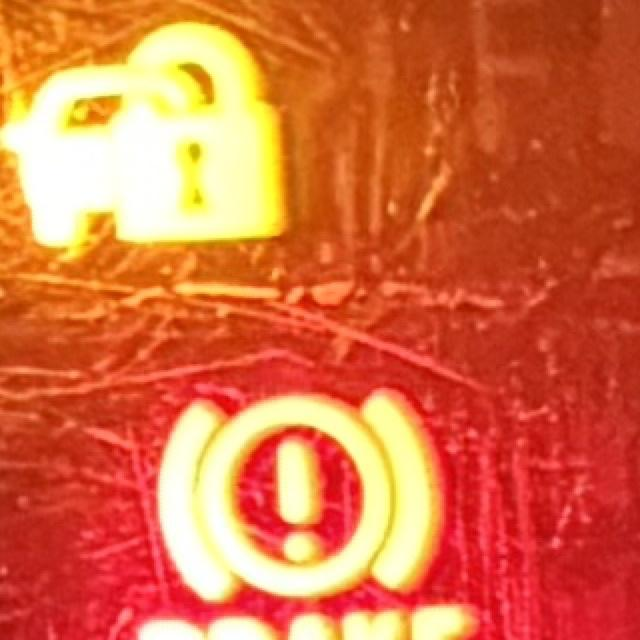Break System Issue: (131, 383, 480, 640)
Car SecurityWarning: (1, 18, 291, 251)
